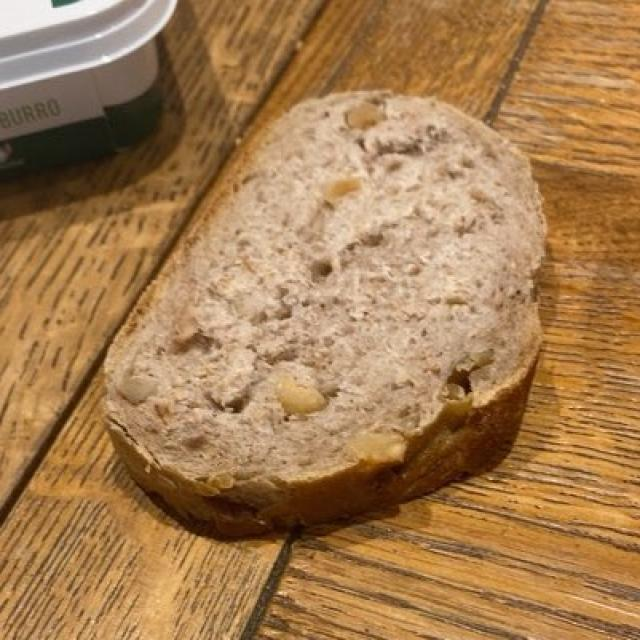thucan: (105, 91, 546, 535)
